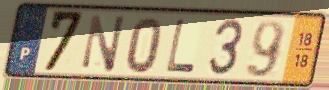0: (122, 13, 164, 76)
3: (207, 16, 245, 78)
7: (42, 8, 86, 75)
9: (243, 18, 290, 79)
L: (164, 17, 197, 75)
N: (80, 13, 128, 75)
